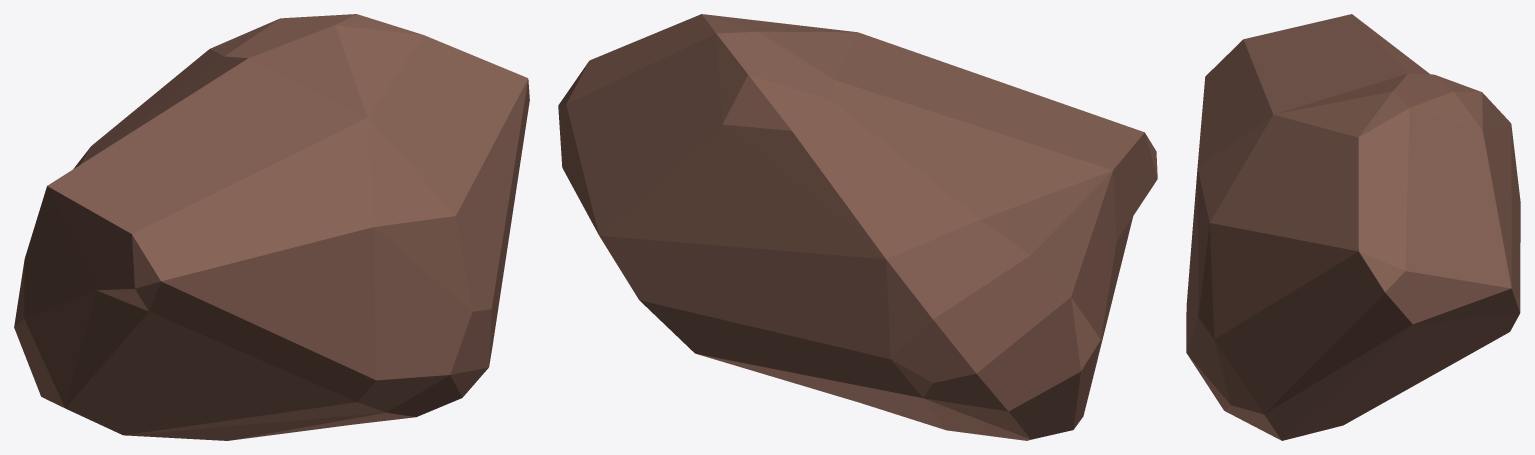
Rendered from MonsterDenRock3.fbx.
3 renders of one model, left to right at view 1: azimuth 30°, elevation 25°; view 2: azimuth 150°, elevation 25°; view 3: azimuth 270°, elevation 25°, orthographic. The views are drawn at different scales.
Visible parts, largest first — view 1: Rock.029; view 2: Rock.029; view 3: Rock.029.
Boxes of the visible parts, x1,y1,x2,y2 form: Rock.029: [14, 14, 529, 440]; Rock.029: [558, 14, 1157, 440]; Rock.029: [1186, 14, 1520, 440].
Bounding box in the file's own units: 901 × 600 × 543.
